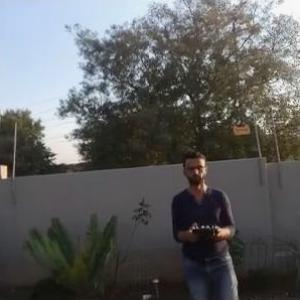follow: (168, 150, 244, 299)
